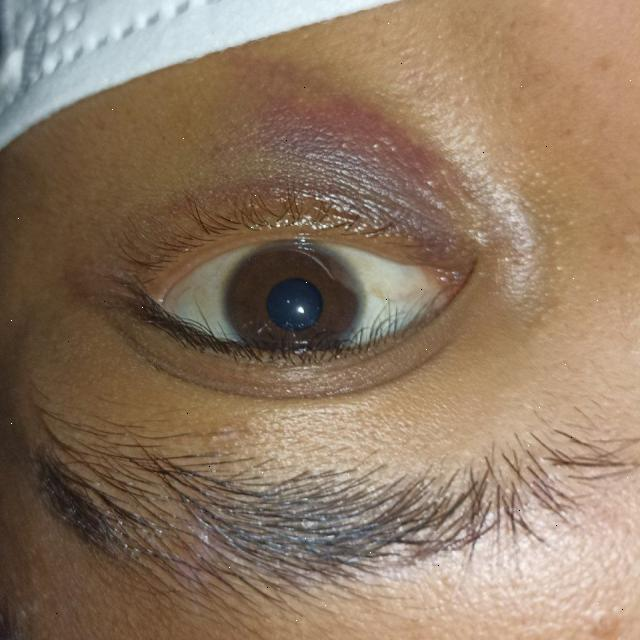Normal: (216, 239, 364, 364)
